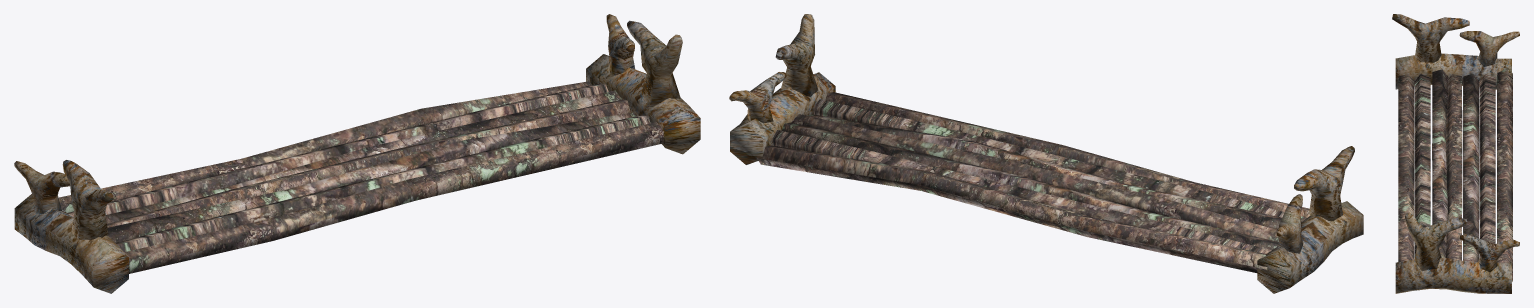
The model's file is middle.fbx.
The picture shows the model from 3 angles, left to right: view 1: azimuth 30°, elevation 25°; view 2: azimuth 150°, elevation 25°; view 3: azimuth 270°, elevation 25°; orthographic projection. The views are drawn at different scales.
Parts seen in each view (by area): view 1: Cylinder; view 2: Cylinder; view 3: Cylinder.
Boxes of the visible parts, x1,y1,x2,y2 form: Cylinder: (14, 14, 700, 293); Cylinder: (729, 14, 1363, 293); Cylinder: (1392, 14, 1519, 293).
Bounding box in the file's own units: 890 × 155 × 219.
Materials: 3 (3 with a texture image).
